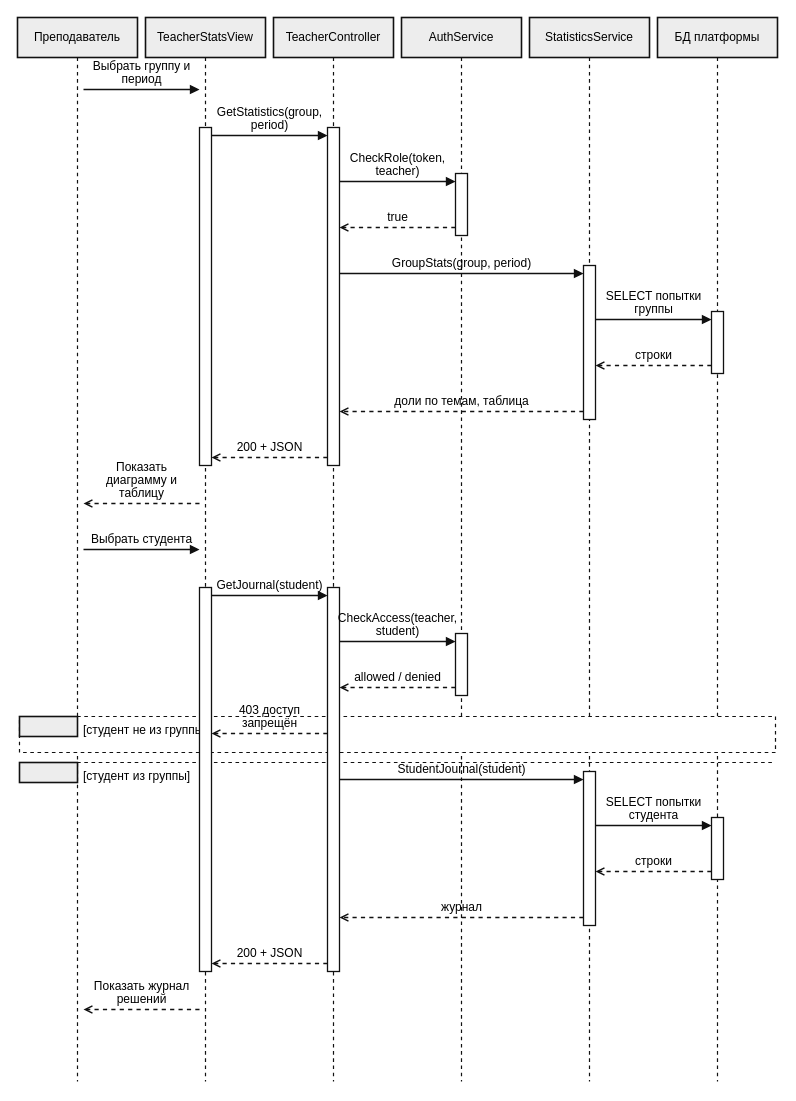
Image size: 796x1101. Some labels were removed from this diagram. Here are the shapes that lost their labels. From the top down, the centre of each, then its label:
the point at 48,726: alt
the point at 48,772: else
